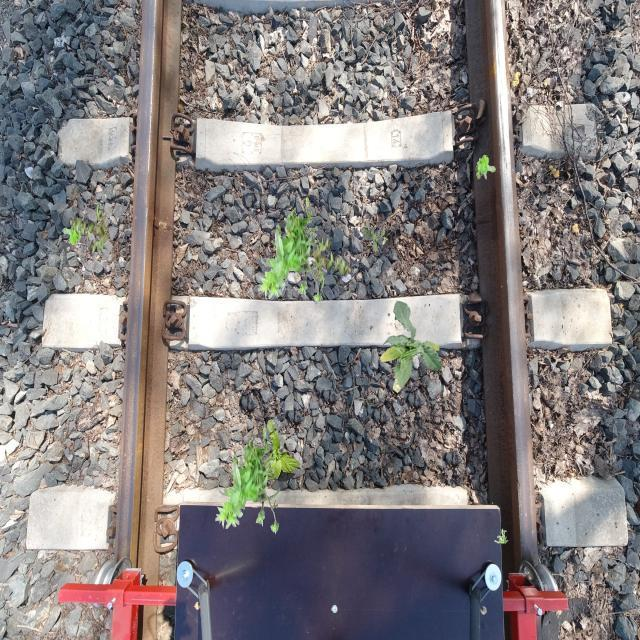Plant: (215, 427, 280, 534), (258, 197, 322, 304), (380, 300, 442, 393), (264, 419, 300, 482), (311, 237, 352, 291), (69, 202, 110, 256), (361, 222, 388, 252), (475, 155, 496, 180), (62, 221, 82, 246), (495, 528, 509, 544)
